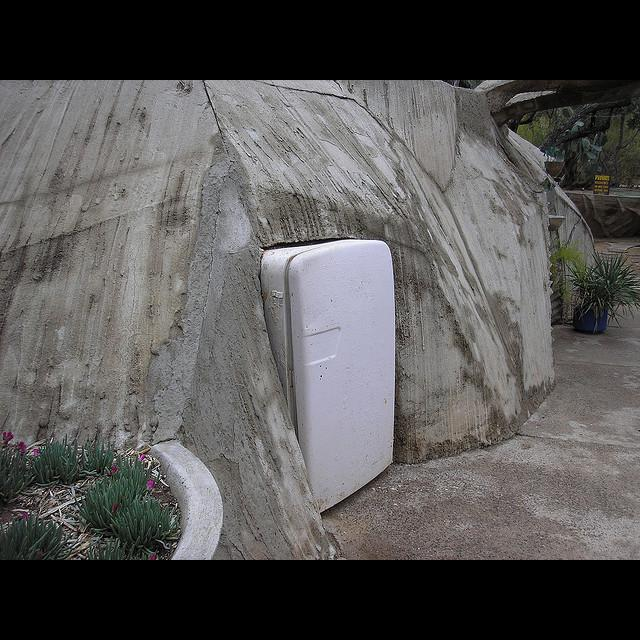Refrigerator: (258, 230, 396, 518)
